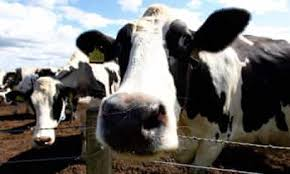waka: (74, 6, 286, 155)
